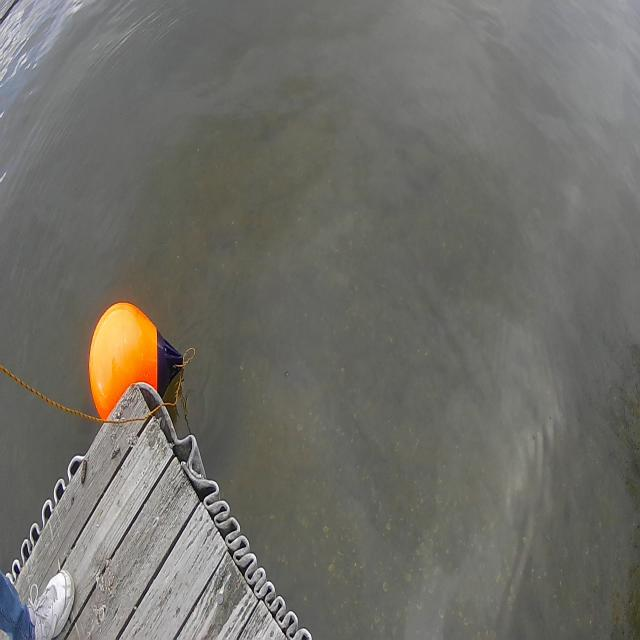Buoy: (88, 300, 159, 425)
